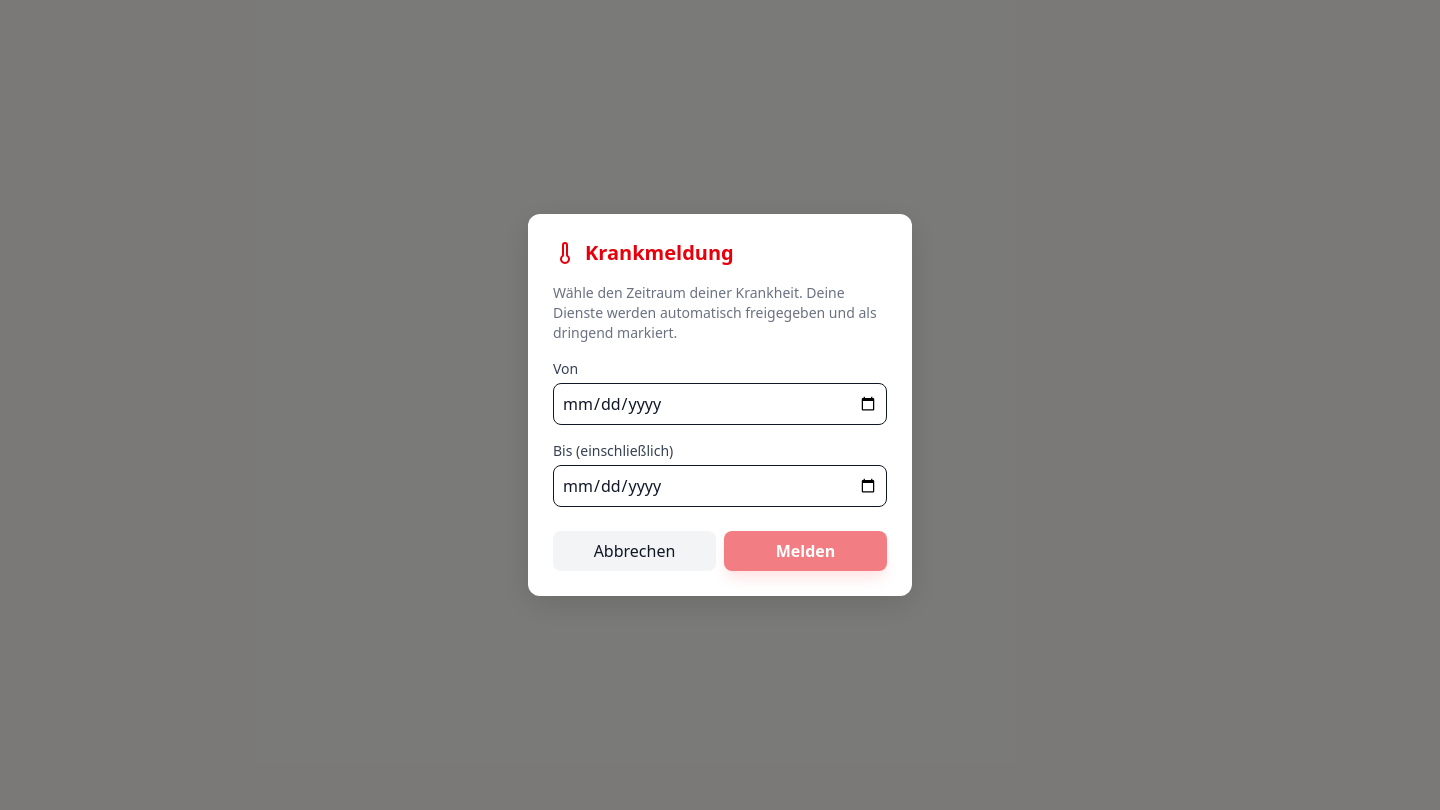
Scenario: SickReportModal › enables submit button when both dates are filled
Type "2025-01-15" into the date field below "Von" at (720, 404), box [553,383,887,425]
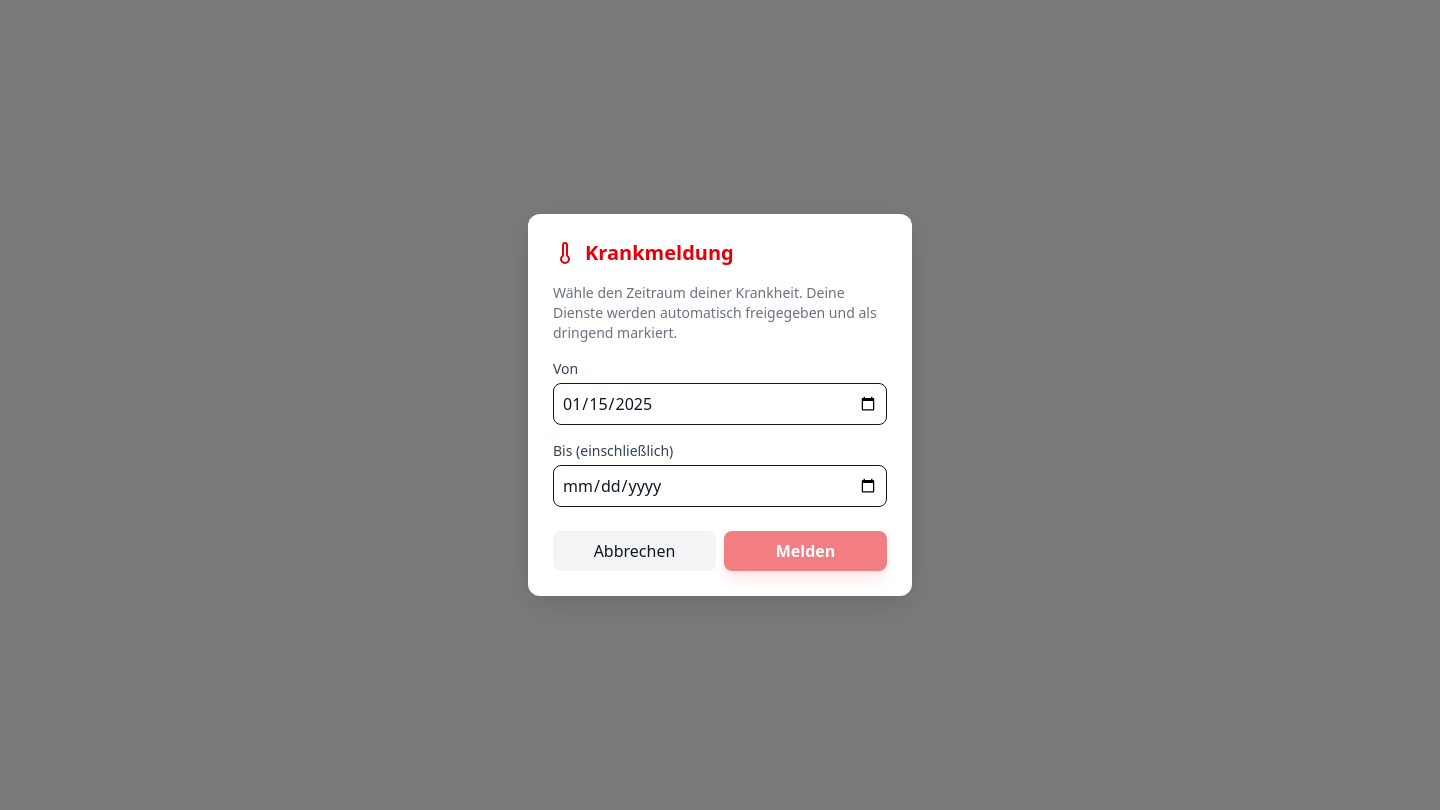
Type "2025-01-17" into the date field below "Bis (einschließlich)" at (720, 486), box [553,465,887,507]
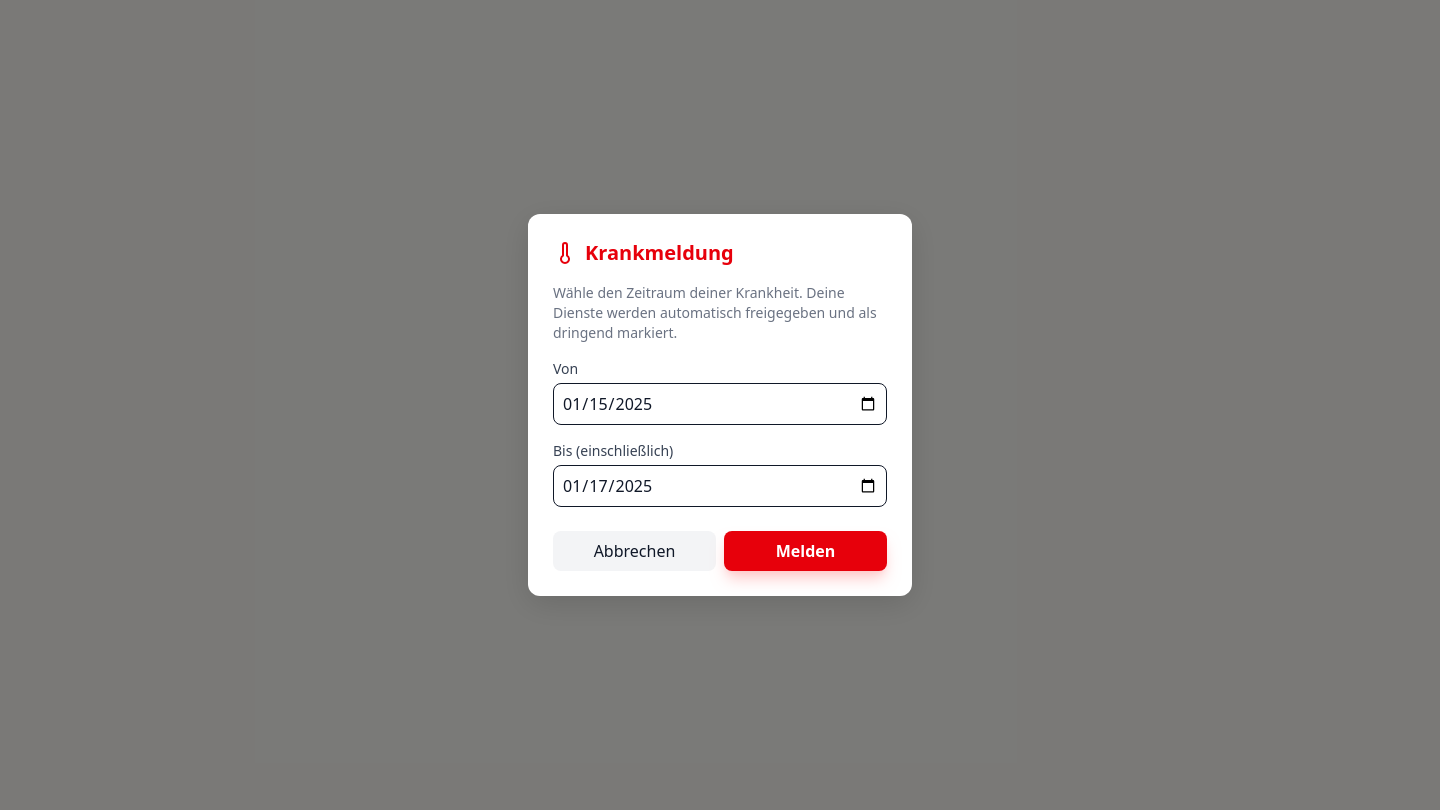
Expected: the button "Melden" is enabled, [724,531,887,571]
